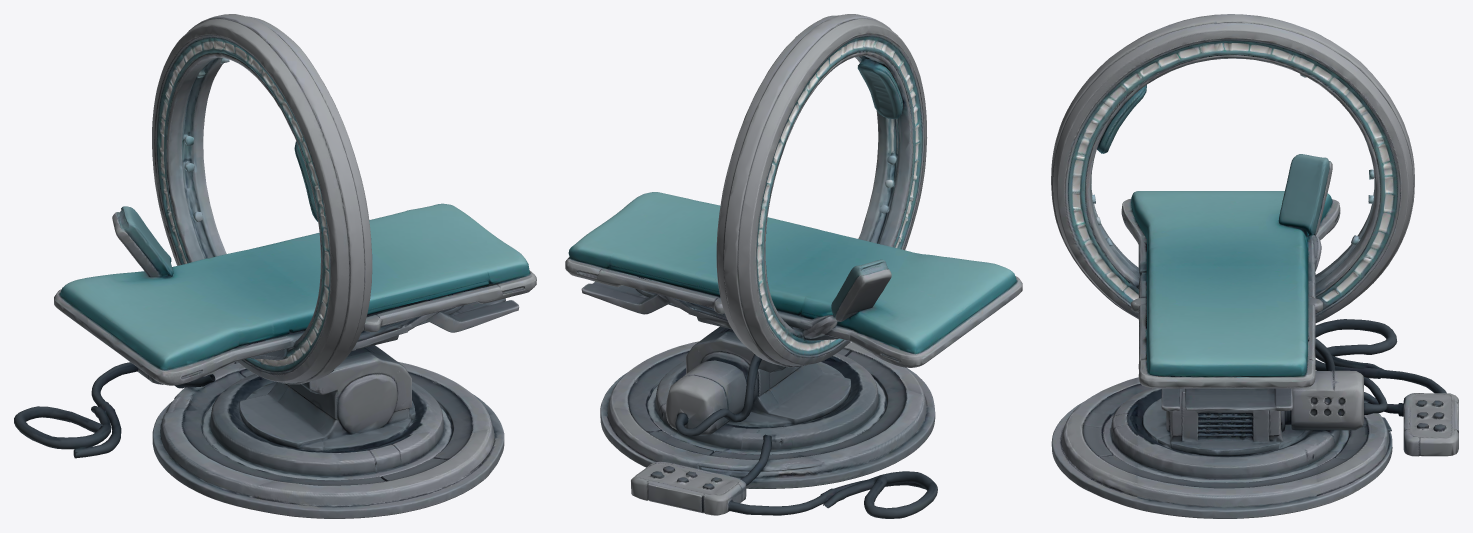
File: Examlabtable3d.glb
3 renders of one model, left to right at view 1: azimuth 30°, elevation 25°; view 2: azimuth 150°, elevation 25°; view 3: azimuth 270°, elevation 25°, orthographic. The views are drawn at different scales.
Visible parts, largest first — view 1: tripo_node_4e9dfc11-fdaa-481e-bf60-6398a3c9fcd6; view 2: tripo_node_4e9dfc11-fdaa-481e-bf60-6398a3c9fcd6; view 3: tripo_node_4e9dfc11-fdaa-481e-bf60-6398a3c9fcd6.
Boxes of the visible parts, x1,y1,x2,y2 form: tripo_node_4e9dfc11-fdaa-481e-bf60-6398a3c9fcd6: (14,14,536,518); tripo_node_4e9dfc11-fdaa-481e-bf60-6398a3c9fcd6: (565,14,1022,518); tripo_node_4e9dfc11-fdaa-481e-bf60-6398a3c9fcd6: (1051,14,1458,518).
Bounding box in the file's own units: 0.9953 × 1 × 0.9132.
Materials: 1 (1 with a texture image).
